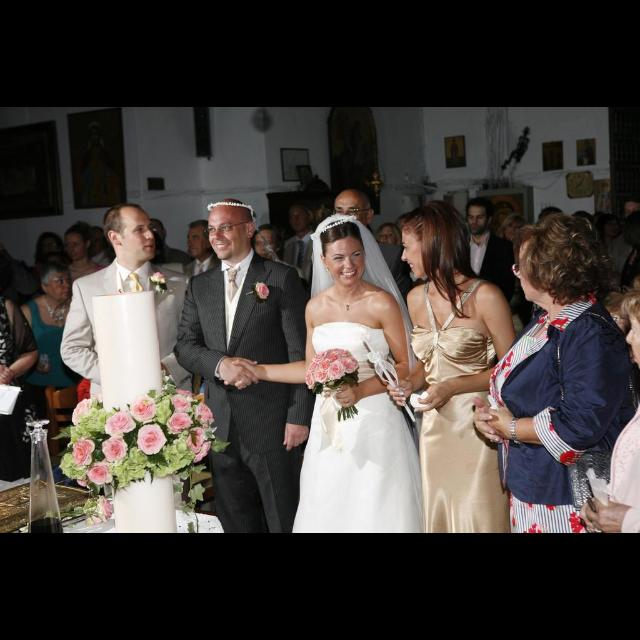Flower: (59, 393, 217, 527), (305, 348, 363, 392), (253, 281, 270, 301), (150, 270, 168, 286)
